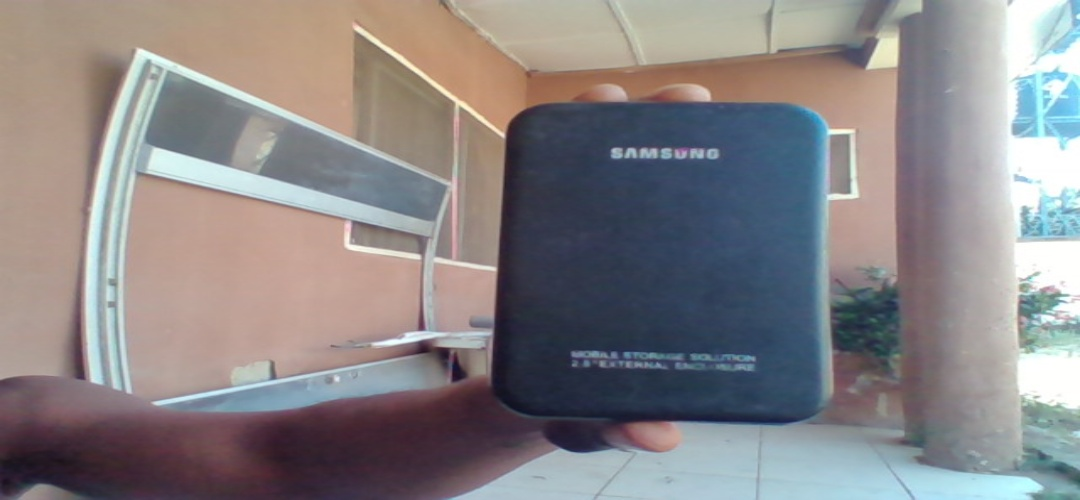hard_disk_case: (504, 103, 827, 420)
